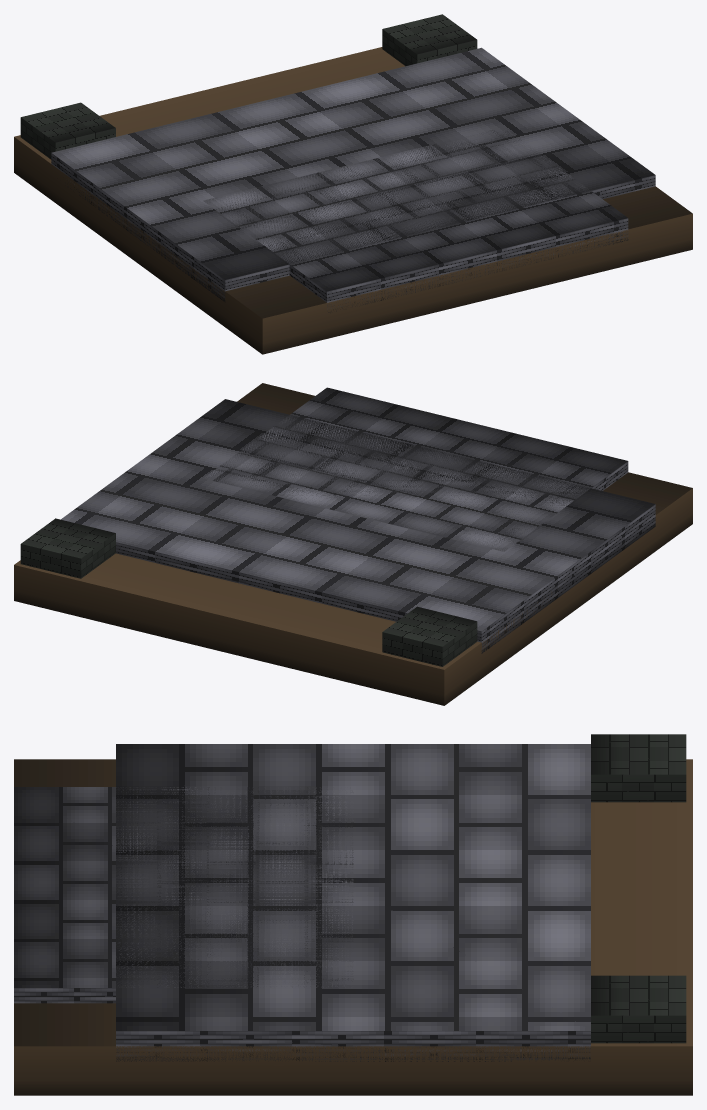
Rendered from road_tee.gltf.
3 renders of one model, top to bottom at view 1: azimuth 30°, elevation 25°; view 2: azimuth 150°, elevation 25°; view 3: azimuth 270°, elevation 25°, orthographic. The views are drawn at different scales.
Parts seen in each view (by area): view 1: road_tee; view 2: road_tee; view 3: road_tee.
Part boxes in pixels (<box>): road_tee: <box>14,14,692,354</box>; road_tee: <box>14,383,692,705</box>; road_tee: <box>14,734,692,1095</box>.
Bounding box in the file's own units: 1 × 0.125 × 1.
Materials: 1 (1 with a texture image).
